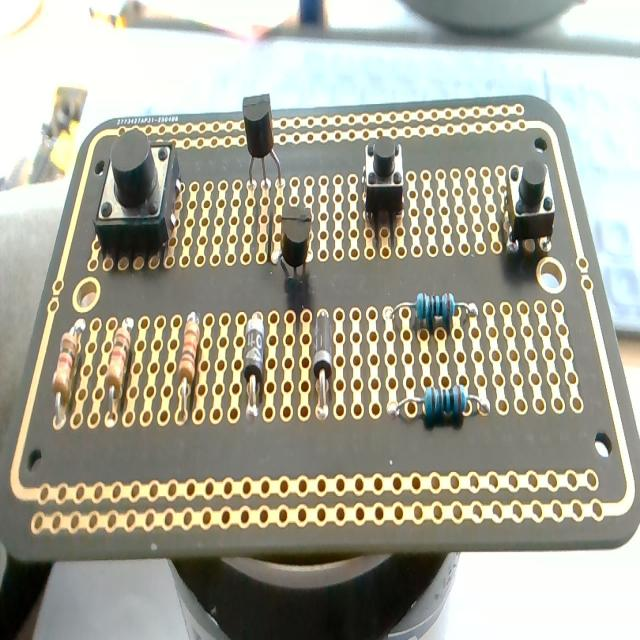diode: (311, 310, 333, 425), (242, 312, 266, 414)
resistor: (389, 382, 489, 423), (391, 293, 477, 336), (53, 316, 87, 422), (103, 317, 134, 418), (175, 311, 201, 423)
switch: (93, 130, 183, 266), (503, 148, 558, 258), (362, 137, 403, 221)
transistor: (264, 194, 325, 290), (240, 90, 286, 193)
